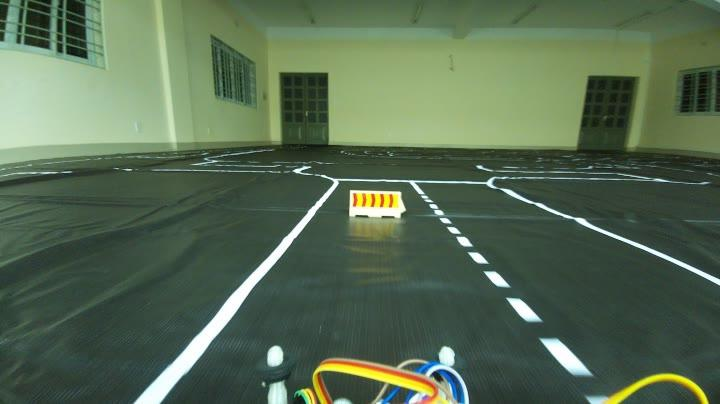roadblock: (342, 184, 411, 229)
